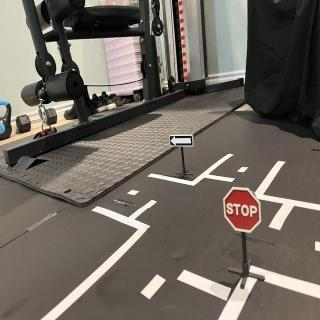sign_oneway_left: (169, 134, 196, 148)
sign_stop: (225, 190, 261, 233)
